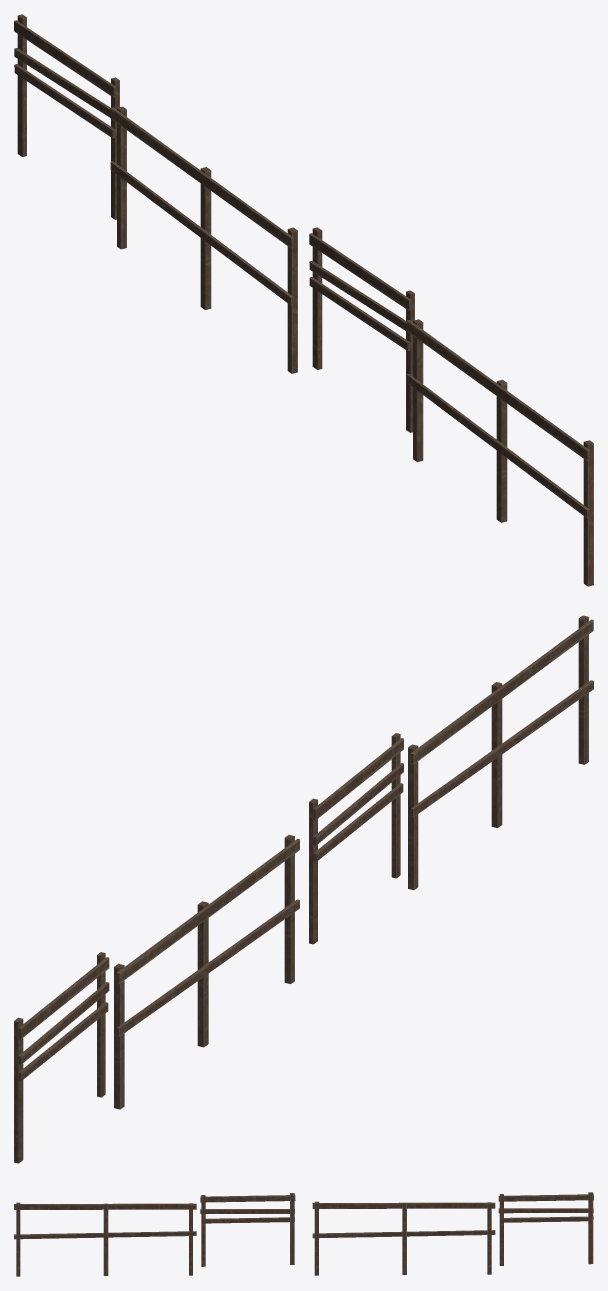
The model's file is fence01a.fbx.
3 views of the same model, one above another, from view 1: azimuth 30°, elevation 25°; view 2: azimuth 150°, elevation 25°; view 3: azimuth 270°, elevation 25° (orthographic). The views are drawn at different scales.
Parts seen in each view (by area): view 1: fence01a; view 2: fence01a; view 3: fence01a.
Part boxes in pixels (box(x1,y1,x2,y2)): fence01a: box(14, 14, 593, 586); fence01a: box(14, 615, 593, 1163); fence01a: box(14, 1192, 593, 1276).
Size of the model in its own units: 17.84 by 1024 by 159.
Materials: 1 (1 with a texture image).
